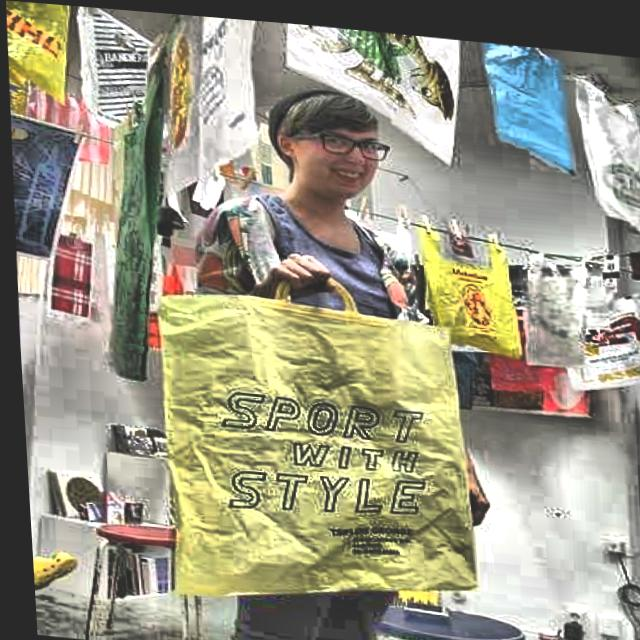Plastic: (124, 240, 516, 638)
